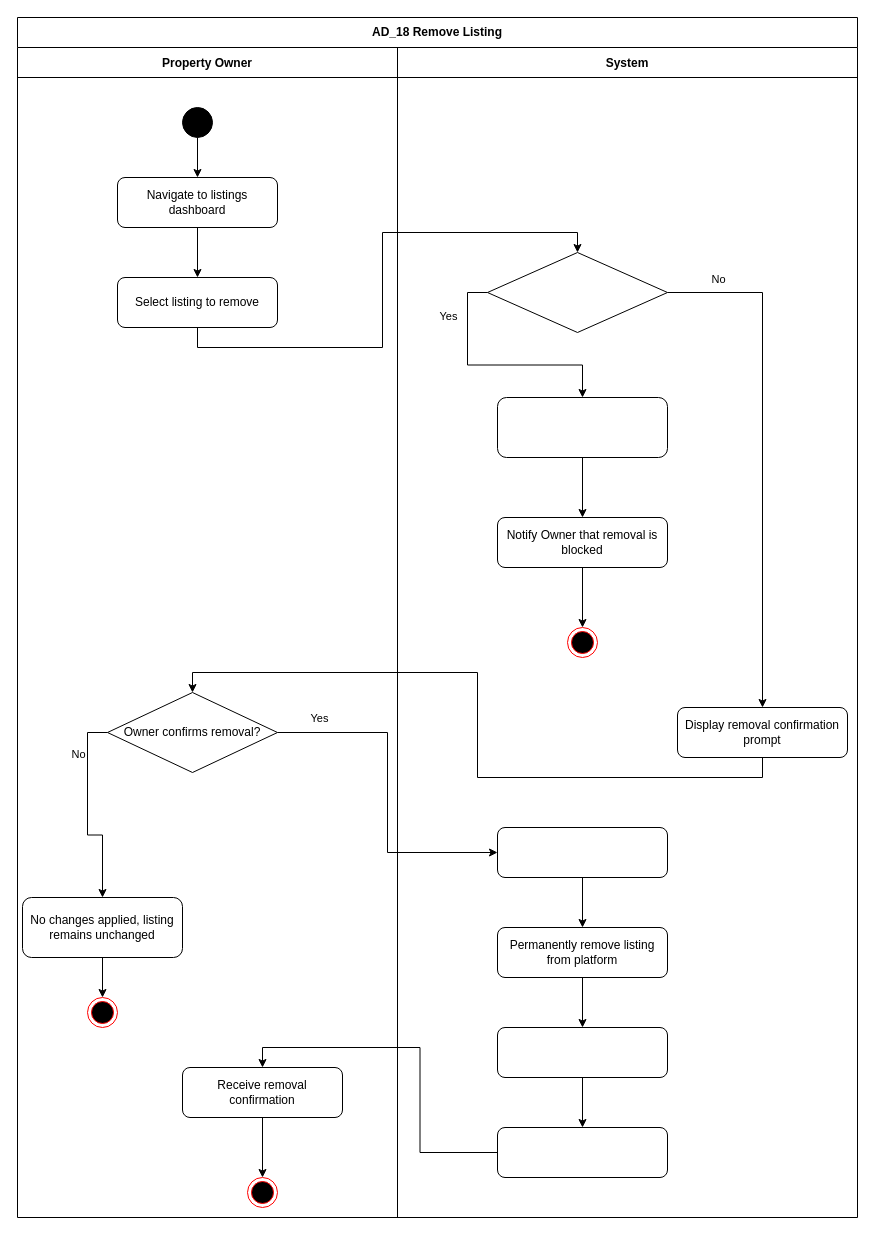
The diagram is 875 pixels wide and 1235 high, and some of its shapes have lost their labels. Each missing label, with the centre of its shape:
"Active transaction in progress?" belongs at (x=577, y=292).
"Display error: listing cannot be removed while transaction is active" belongs at (x=582, y=427).
"Display removal confirmation to Property Owner" belongs at (x=582, y=1152).
"Log removal with timestamp" belongs at (x=582, y=1052).
"Process listing removal immediately" belongs at (x=582, y=852).
